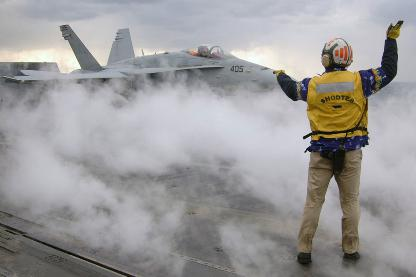F15: (0, 23, 298, 111)
